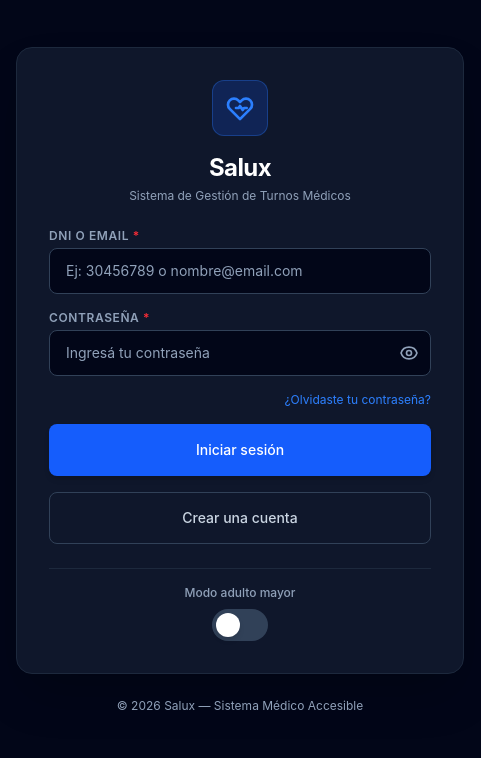
Test case: login › muestra el error del servidor y no entra
Expected: the button "Iniciar sesión" is shown, [49,424,431,476]
Step 1. Type "ana@correo.com" into the field with placeholder "Ej: 30456789 o nombre@email.com" → (240, 270), box [49,248,431,294]
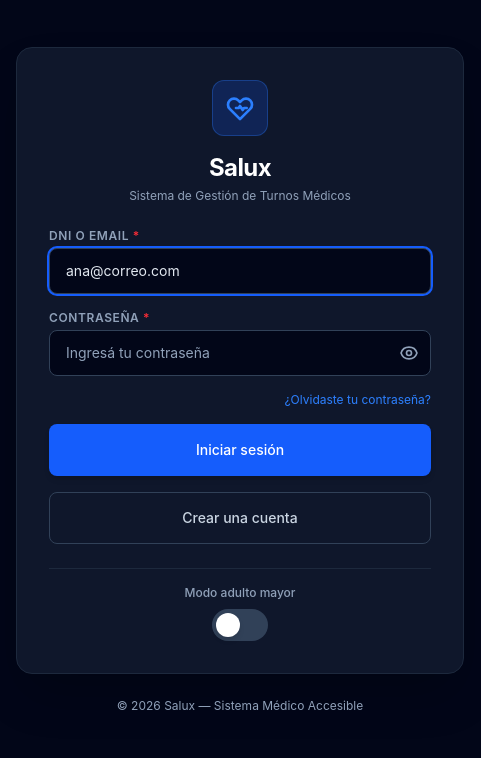
Step 2. Type "mala" into the password field with placeholder "Ingresá tu contraseña" → (240, 352), box [49,330,431,376]
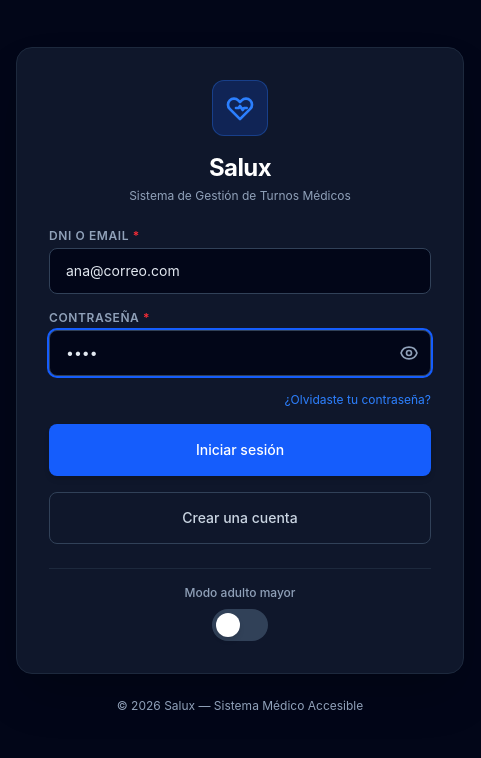
Step 3. Click the button "Iniciar sesión" → (240, 450), box [49,424,431,476]
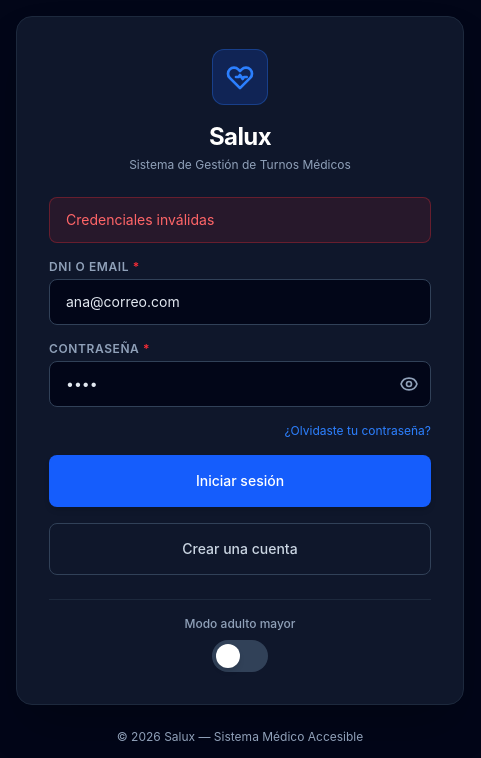
Now the text "Credenciales inválidas" is shown, box [49,196,431,242]
